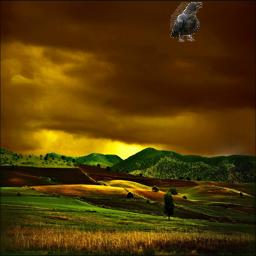Crow: (170, 2, 203, 42)
